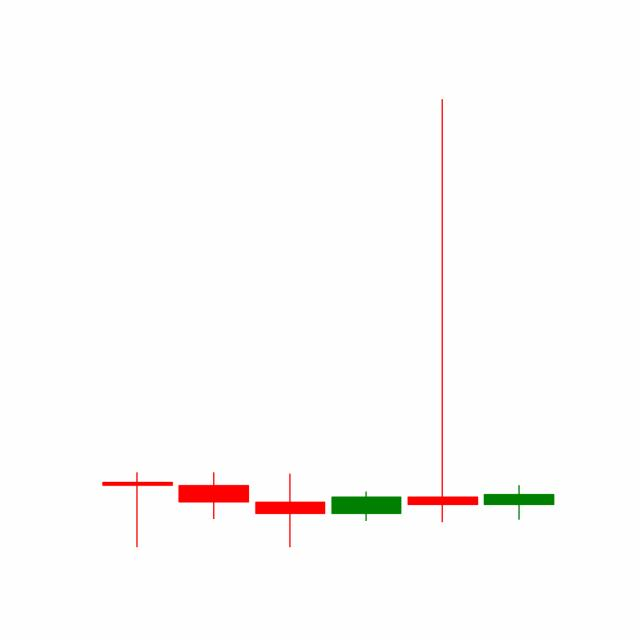Spinning Top: (403, 94, 481, 527)
